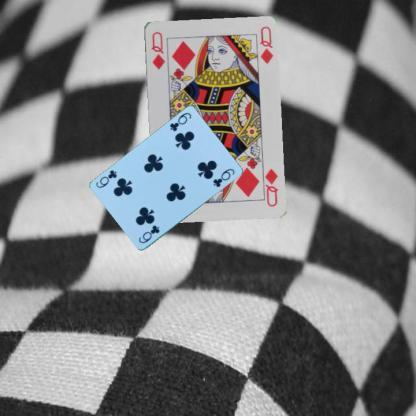6c: (136, 222, 160, 245), (167, 110, 192, 132)
Qd: (259, 164, 279, 209), (148, 28, 166, 70)
